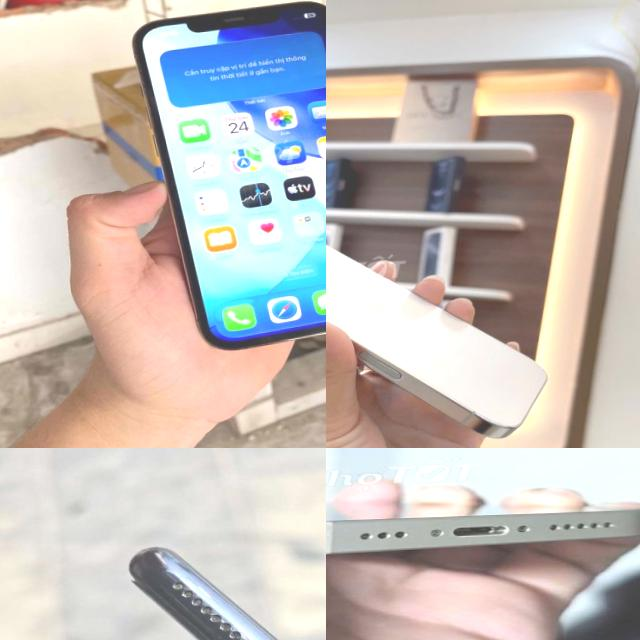gen_11: (120, 534, 326, 640)
gen_12_13: (127, 0, 326, 360)
gen_14: (326, 471, 640, 580)
gen_16: (326, 245, 545, 437)
scratch: (213, 622, 261, 640)
